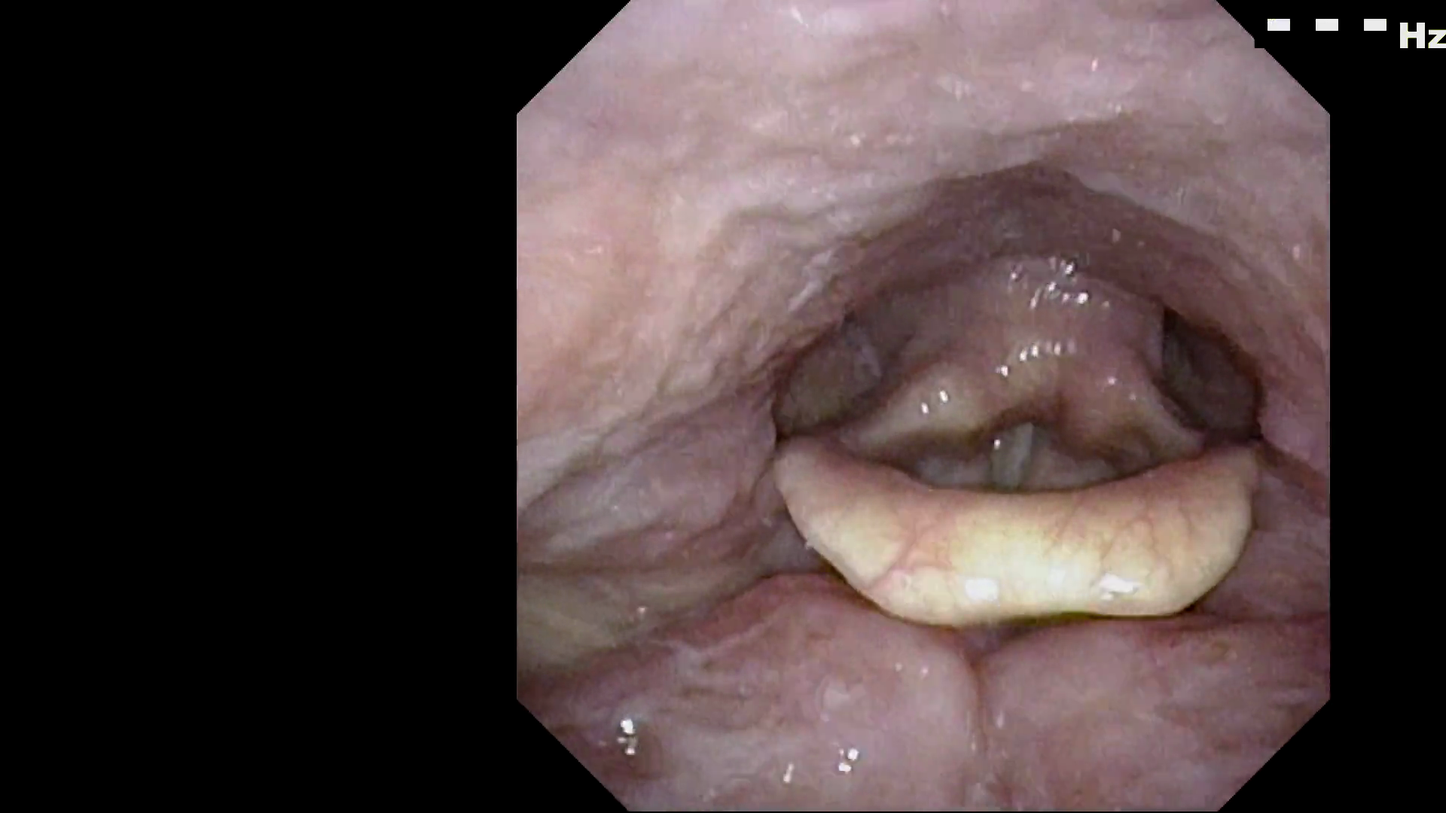epiglottis: (718, 416, 1299, 661)
trachea: (930, 373, 1090, 554)
